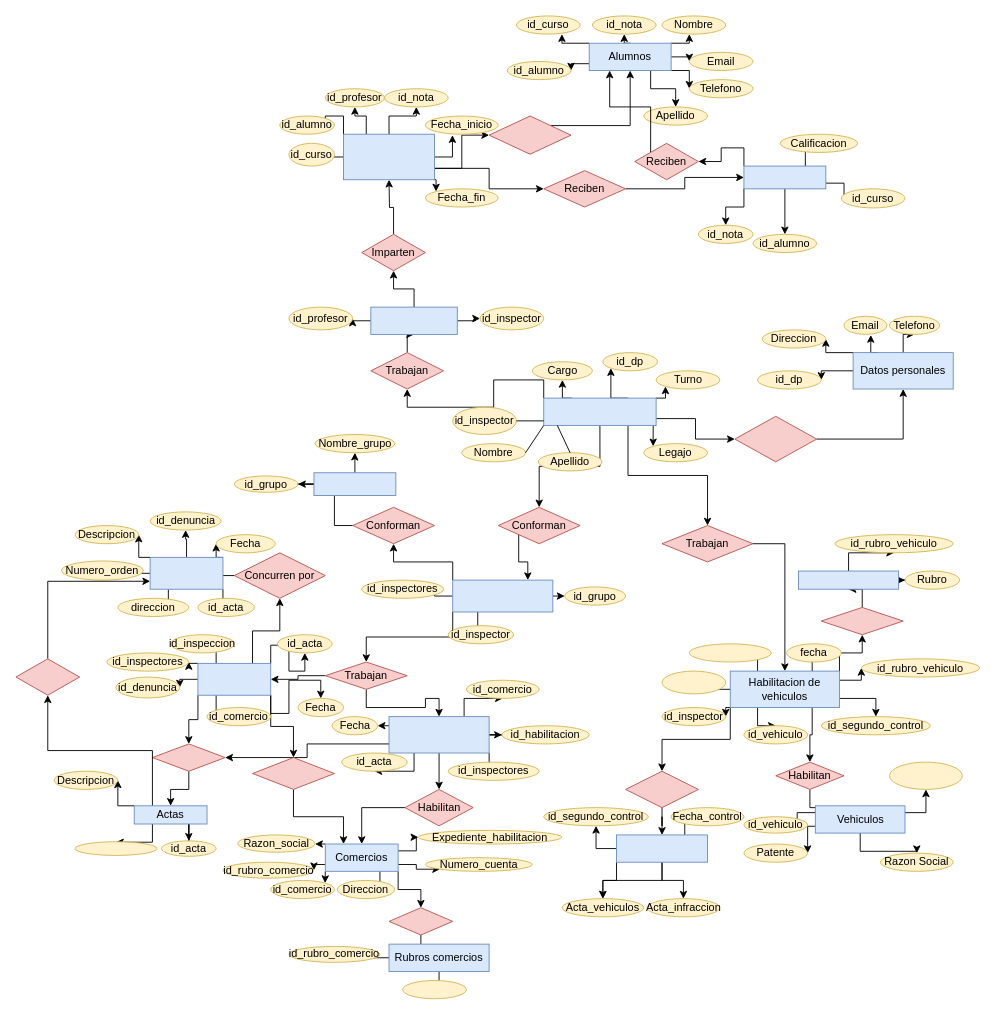
Image size: 996x1015. Some labels were removed from this diagram. The centre of each missing label's shape, as x and y in pixels:
Actuacion: point 47,676
Componen: point 420,921
Curso de Manipulacion de alimentos: point 389,156
Denuncias: point 186,572
Estudian: point 529,134
Grupo: point 354,483
Grupo de inspectores: point 502,595
Habilitacion de comercios: point 438,734
id_registro: point 693,682
Inspeccionan: point 293,773
Inspecciones: point 234,678
Inspectores: point 599,411
Labran: point 188,757
Notas: point 784,177
Numero de habilitacion: point 925,775
Numero_acta: point 115,848
Observaciones: point 729,652
Profesor: point 413,320
Rubros: point 434,989
Rubros_vehiculos: point 848,579
Se citan: point 661,789
Se compone: point 775,438
Segundo control: point 662,848
Transportan: point 861,621
